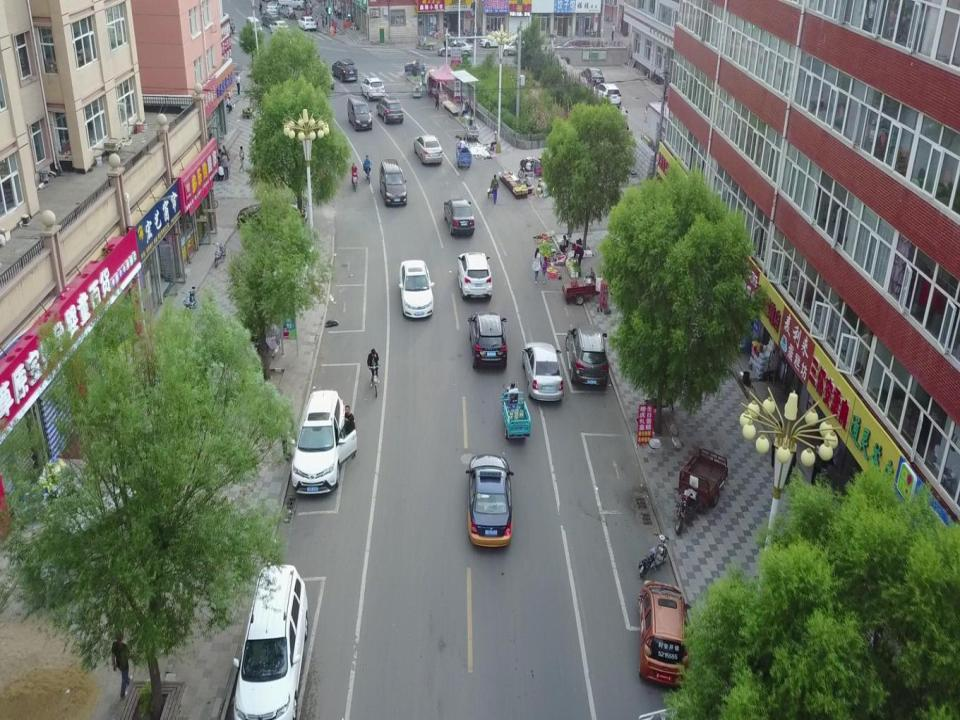car: (290, 390, 357, 496), (638, 579, 690, 690), (465, 454, 514, 548), (566, 322, 609, 391), (522, 343, 564, 399), (238, 200, 308, 232), (468, 312, 508, 368), (398, 260, 434, 318), (457, 253, 492, 300), (444, 198, 474, 235), (414, 133, 442, 164), (591, 82, 622, 109), (376, 96, 404, 123), (330, 57, 358, 83), (438, 40, 473, 57), (360, 77, 384, 101), (500, 40, 533, 56), (580, 67, 604, 88), (479, 32, 511, 47), (260, 12, 281, 28), (269, 20, 289, 36), (298, 16, 315, 32), (266, 1, 281, 14)
van: (379, 158, 407, 206), (347, 94, 372, 130), (246, 17, 262, 36)
